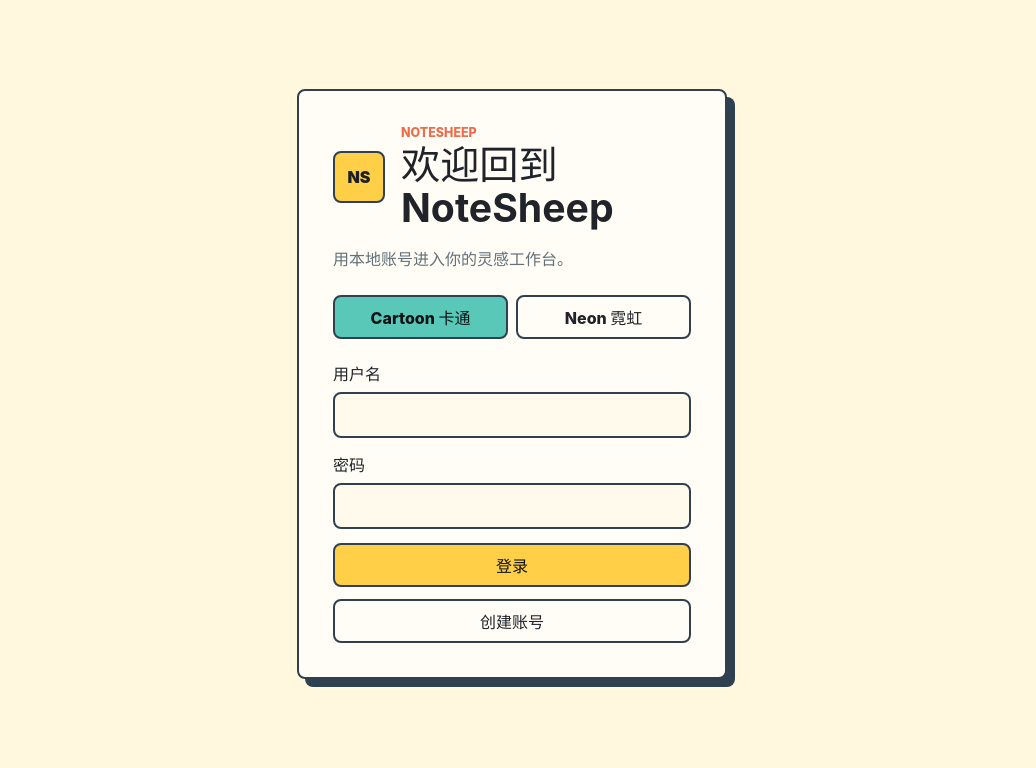
Test case: Workspace shell › shows the notebook scrollbar, notebooks, and selected notebook tree
The width and height of the screenshot is (1036, 768).
Type "note-taker" into the field labelled "用户名".
click(512, 415); type("note-taker")  # box [333,392,691,438]
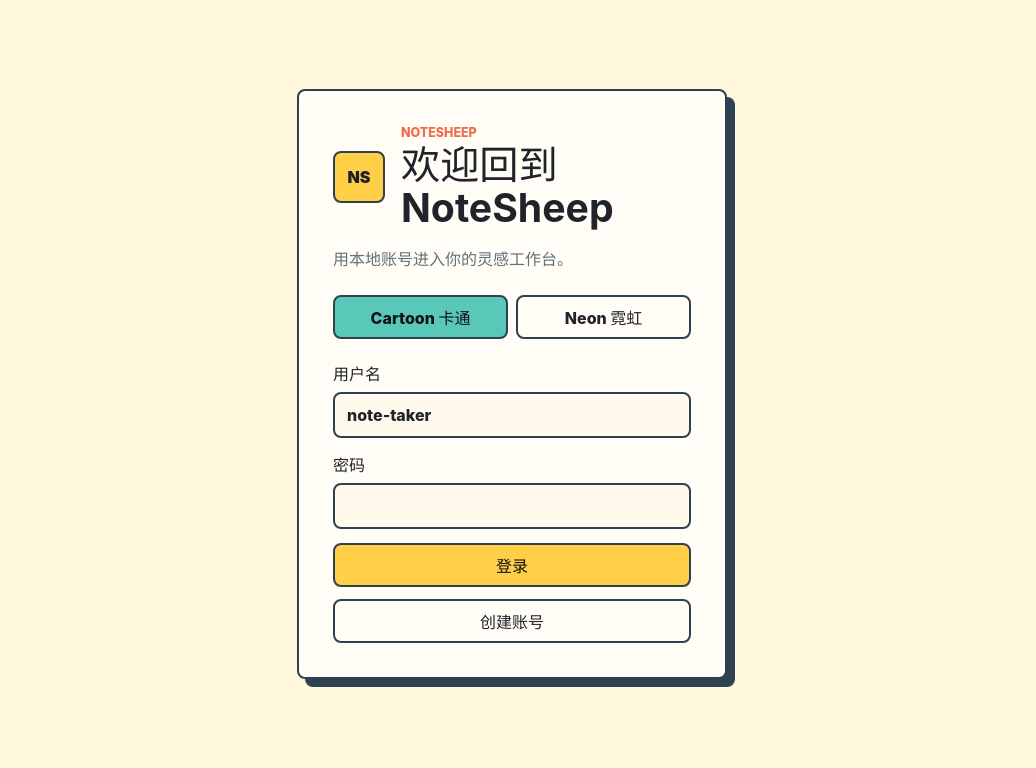
Type "secret1" into the password field labelled "密码".
click(512, 506); type("secret1")  # box [333,483,691,529]
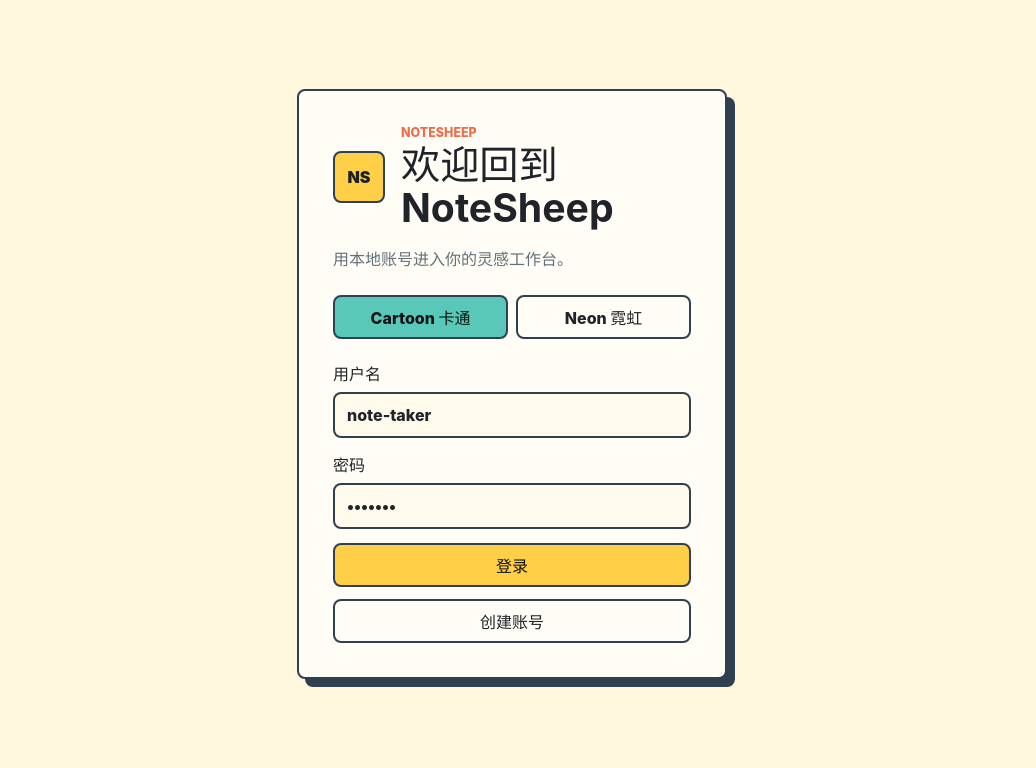
Click the button "登录".
click(512, 565)  # box [333,543,691,587]
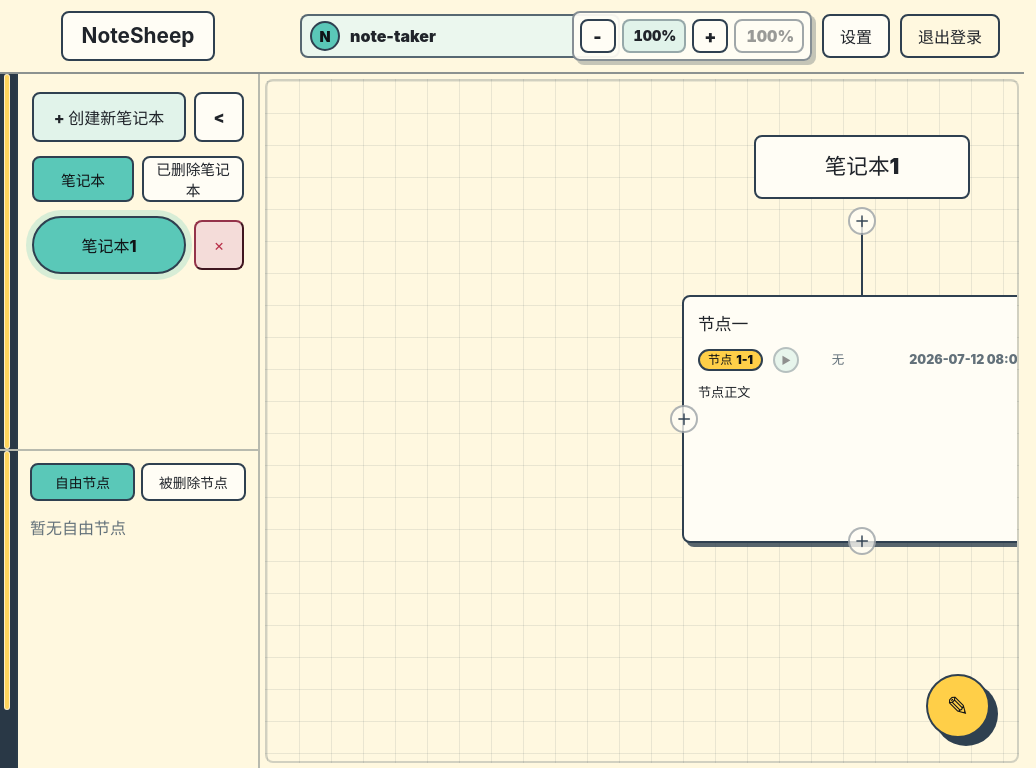
Expected: the button with aria-label "打开笔记本 笔记本1" is shown, [32,216,186,274]
Expected: the heading "节点一" is shown, [698,314,748,334]
Expected: the element named "根节点 笔记本1" is shown, [752,133,972,223]
